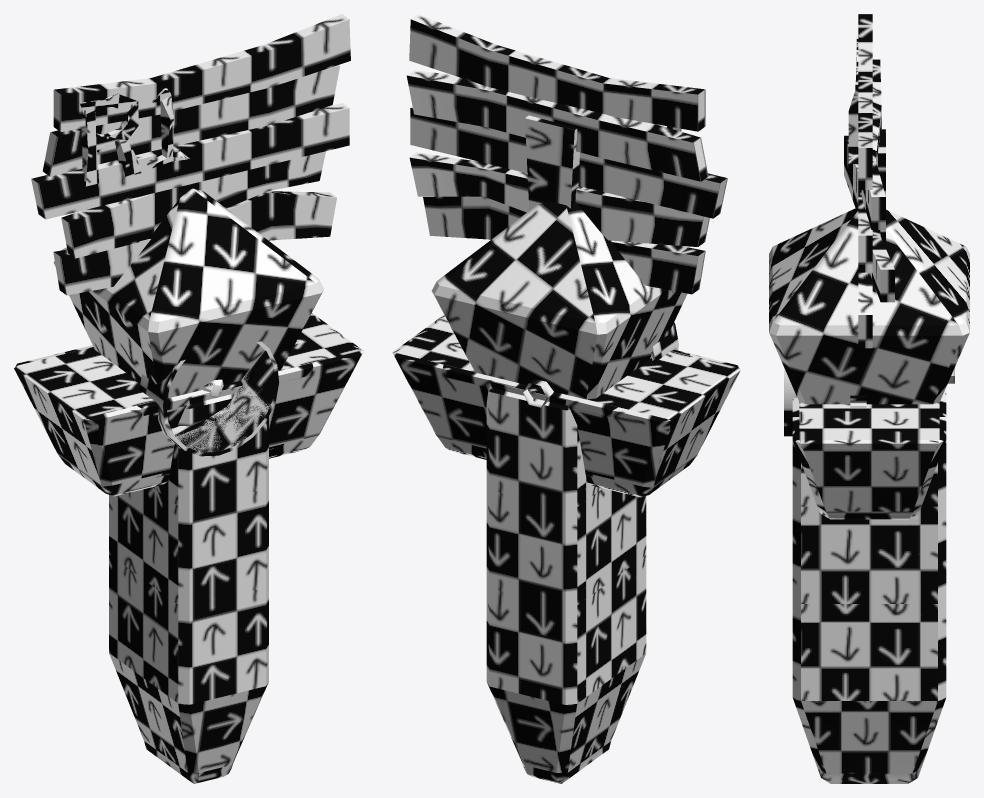
File: 05_retake_obj.fbx
The picture shows the model from 3 angles, left to right: view 1: azimuth 30°, elevation 25°; view 2: azimuth 150°, elevation 25°; view 3: azimuth 270°, elevation 25°; orthographic projection.
Visible parts, largest first — view 1: _05_startpanel_obj, _05_idousasaran_obj6, _05_select_obj, _05_idousasaran_obj3, _05_Lgearbig_obj, _05_idousasaran_obj5, _05_Ugearbig_obj, _05_Rgearbig_obj, _05_idousasaran_obj2, _05_idousasaran_obj4; view 2: _05_startpanel_obj, _05_idousasaran_obj6, _05_select_obj, _05_idousasaran_obj3, _05_idousasaran_obj4, _05_idousasaran_obj5, _05_idousasaran_obj2, _05_Ugearbig_obj; view 3: _05_idousasaran_obj6, _05_select_obj, _05_idousasaran_obj3, _05_startpanel_obj, _05_idousasaran_obj5, _05_Lgearbig_obj.
Boxes of the visible parts, <box> form: _05_startpanel_obj: <box>31,14,350,295</box>; _05_idousasaran_obj6: <box>109,393,268,783</box>; _05_select_obj: <box>53,188,324,397</box>; _05_idousasaran_obj3: <box>14,313,363,496</box>; _05_Lgearbig_obj: <box>140,341,279,456</box>; _05_idousasaran_obj5: <box>109,394,268,605</box>; _05_Ugearbig_obj: <box>139,369,277,455</box>; _05_Rgearbig_obj: <box>158,402,274,454</box>; _05_idousasaran_obj2: <box>65,345,313,483</box>; _05_idousasaran_obj4: <box>152,411,183,506</box>; _05_startpanel_obj: <box>406,14,727,294</box>; _05_idousasaran_obj6: <box>486,387,646,783</box>; _05_select_obj: <box>431,201,687,399</box>; _05_idousasaran_obj3: <box>392,315,740,497</box>; _05_idousasaran_obj4: <box>488,387,602,508</box>; _05_idousasaran_obj5: <box>486,395,646,605</box>; _05_idousasaran_obj2: <box>442,350,689,484</box>; _05_Ugearbig_obj: <box>523,325,678,407</box>; _05_idousasaran_obj6: <box>792,503,946,783</box>; _05_select_obj: <box>769,207,969,404</box>; _05_idousasaran_obj3: <box>792,401,946,519</box>; _05_startpanel_obj: <box>844,14,894,348</box>; _05_idousasaran_obj5: <box>792,440,946,601</box>; _05_Lgearbig_obj: <box>784,367,954,419</box>.
Bounding box in the file's own units: 10.42 × 22.72 × 5.88.
Materials: 1 (1 with a texture image).
